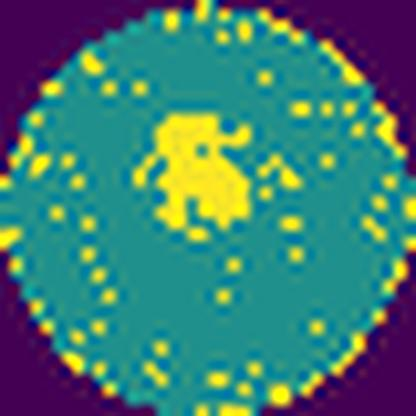Center: (134, 113, 253, 240)
